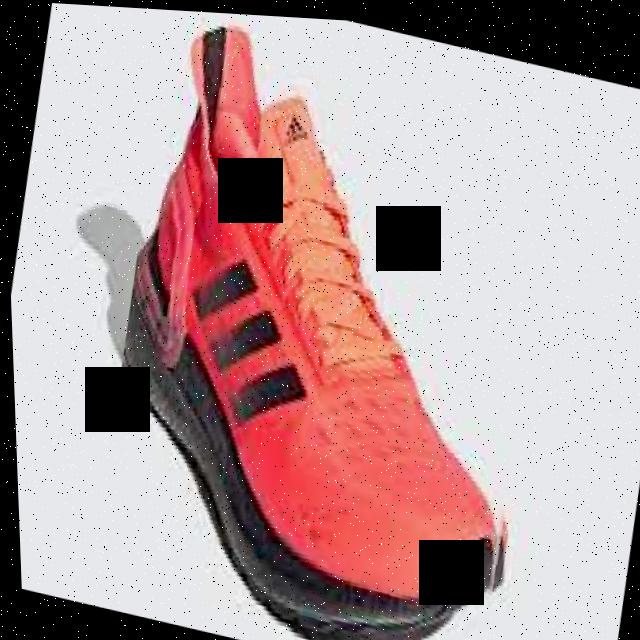shoe: (68, 3, 589, 640)
